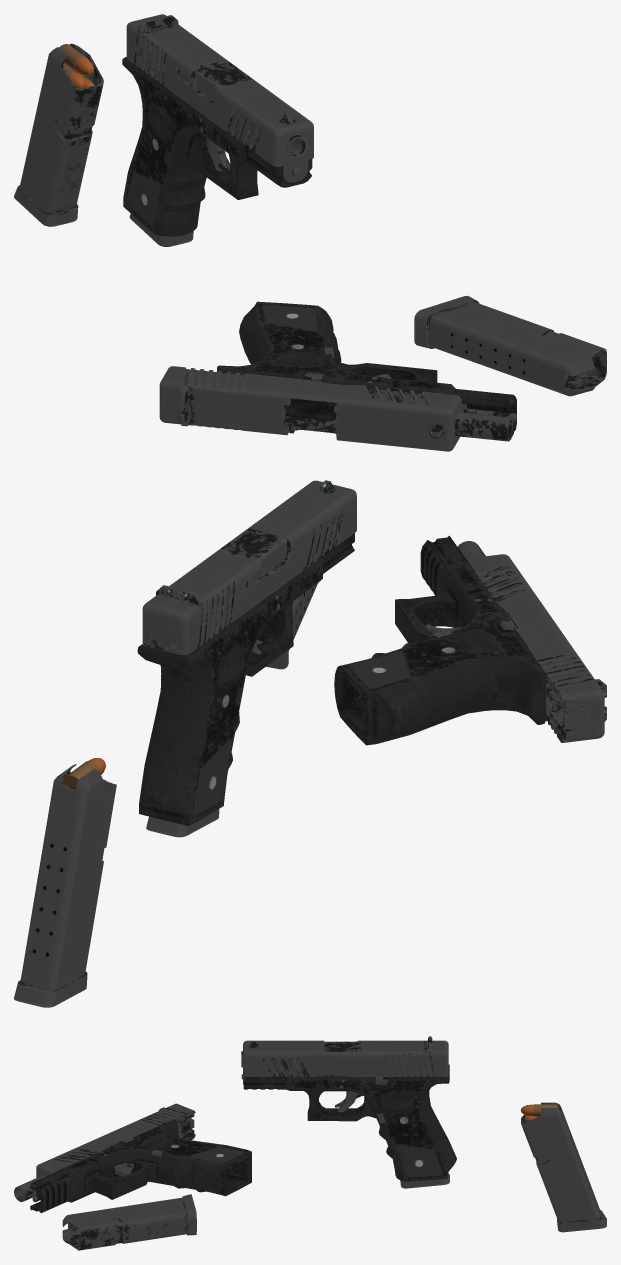
The picture shows the model from 3 angles, top to bottom: view 1: azimuth 30°, elevation 25°; view 2: azimuth 150°, elevation 25°; view 3: azimuth 270°, elevation 25°; orthographic projection. The views are drawn at different scales.
Visible parts, largest first — view 1: Display1; view 2: Display1; view 3: Display1.
Boxes of the visible parts, x1,y1,x2,y2 form: Display1: (14,14,606,451); Display1: (14,480,606,1007); Display1: (14,1036,606,1250).
Size of the model in its own units: 0.2835 by 0.1976 by 0.5703.
Materials: 2 (2 with a texture image).
